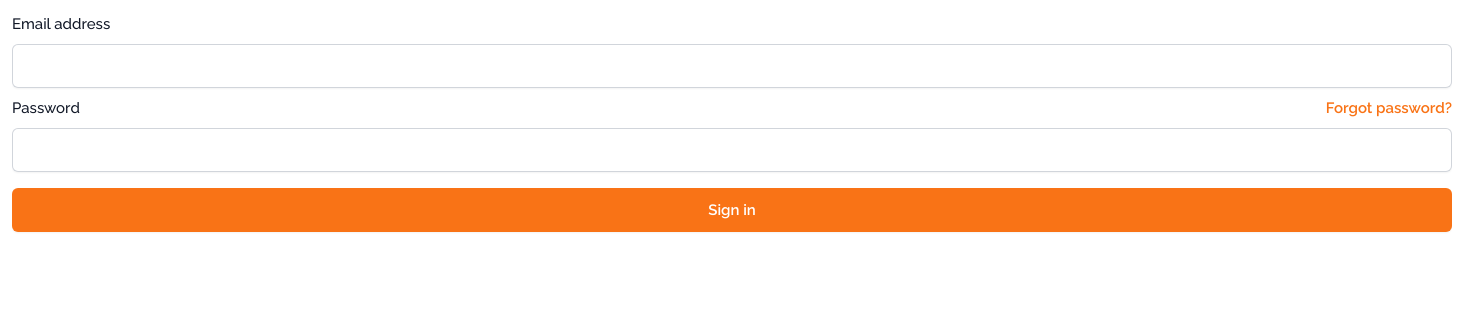
Scenario: LoginForm Component › Form submission tests › should display a generic error message if the login fails for an unknown reason
In the field labelled "Email address": (732, 66) top-left (12, 44), bottom-right (1452, 88), type "test@gmail.com"
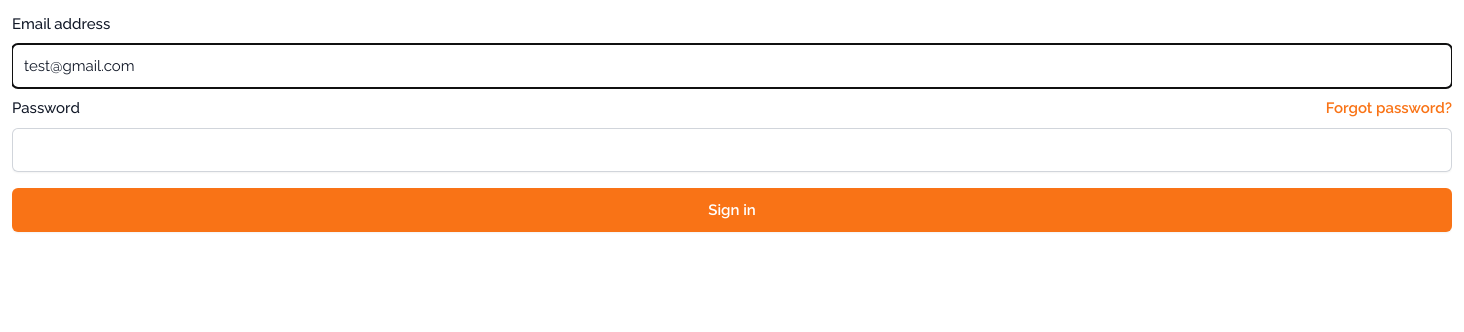
In the password field labelled "Password": (732, 150) top-left (12, 128), bottom-right (1452, 172), type "Test1234"
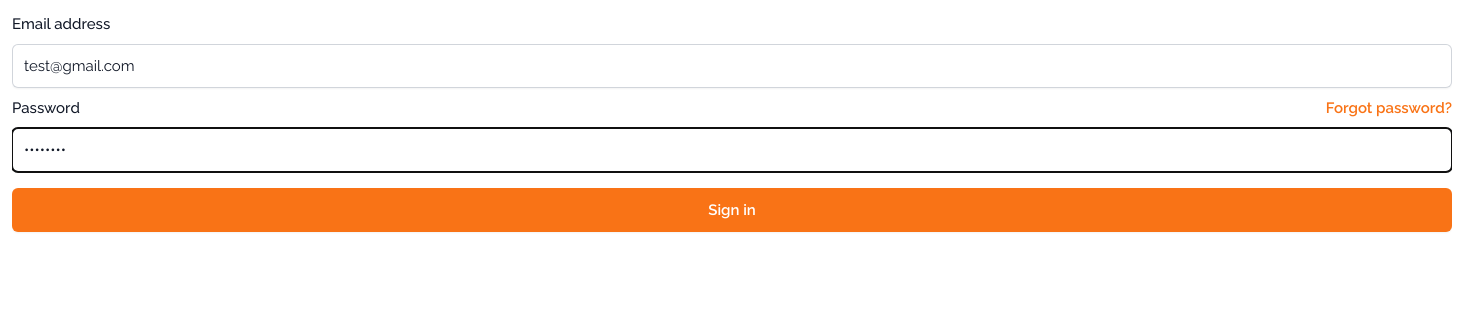
Click the button "Sign in": (732, 210) top-left (12, 188), bottom-right (1452, 232)
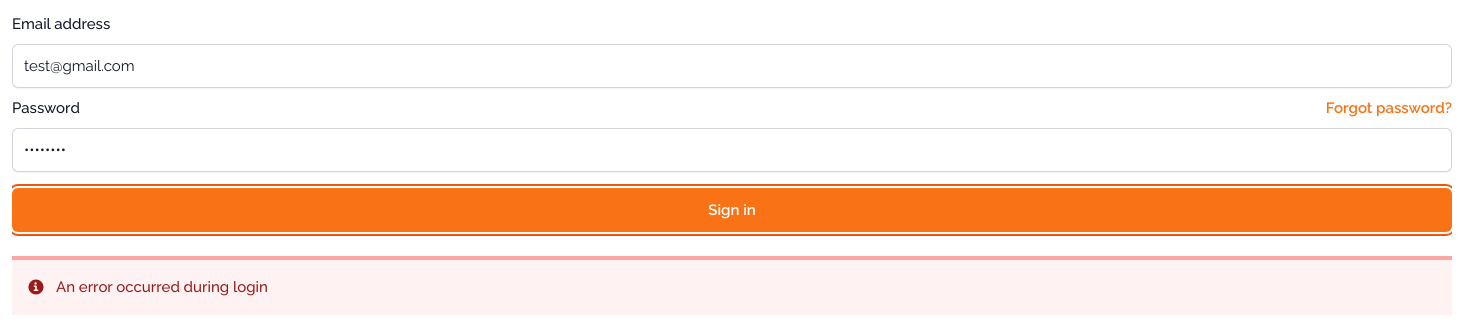
expect the text "An error occurred during login" is shown: met, box top-left (56, 276), bottom-right (268, 298)
